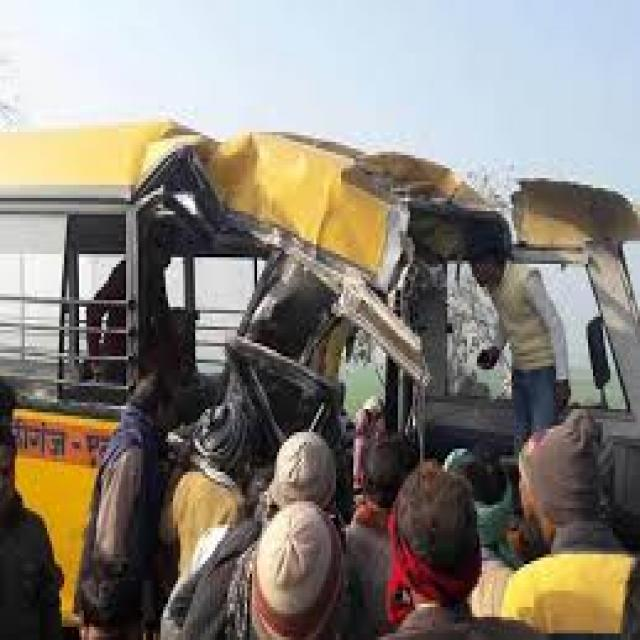accident: (1, 113, 640, 590)
